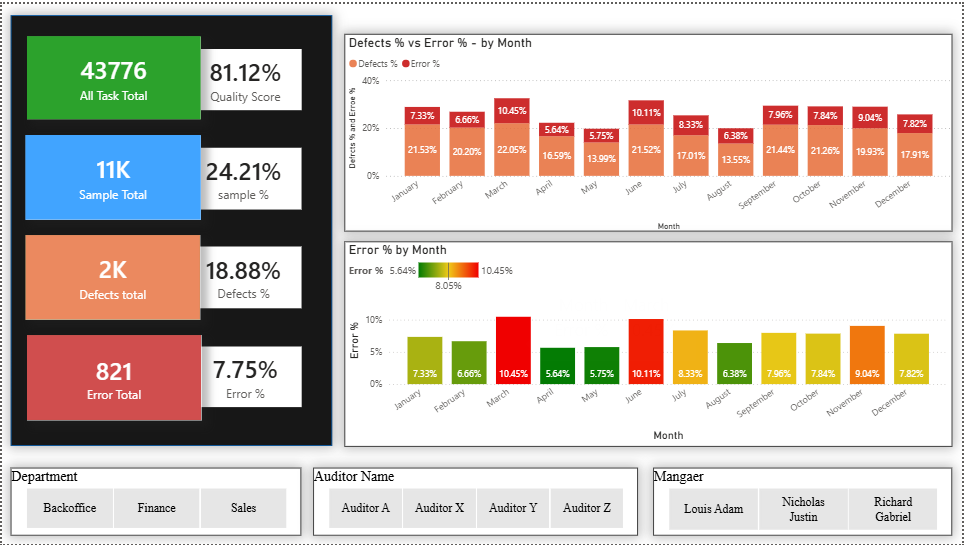

Layout of this report page (visuals, bound fields, positions):
{"tool":"powerbi","page":{"name":"Overview","canvas":[1280,720],"ordinal":0},"visuals":[{"type":"slicer","title":"Department","fields":{"Values":["Dim_Department.Department"]},"box":[11.4,618.6,387.1,90],"z":0},{"type":"slicer","title":"Auditor Name","fields":{"Values":["Dim_Auditor.Auditor Name"]},"box":[415.7,618.6,432.9,90],"z":1000},{"type":"slicer","title":"Mangaer","fields":{"Values":["Dim_Manager.Manager"]},"box":[868.6,618.6,398.6,90],"z":2000},{"type":"shape","box":[11.4,15.7,428.6,574.3],"z":3000},{"type":"cardVisual","fields":{"Data":["All_Measures.Error %"]},"box":[249.4,456.9,149.4,80.6],"z":4000},{"type":"cardVisual","fields":{"Data":["All_Measures.Quality Score"]},"box":[249.4,60,149.4,81.9],"z":5000},{"type":"cardVisual","fields":{"Data":["All_Measures.Error_Total"]},"box":[32.9,441,232.9,113.6],"z":6000},{"type":"cardVisual","fields":{"Data":["All_Measures.All Task Total"]},"box":[32.5,44,231.7,110],"z":7000},{"type":"cardVisual","fields":{"Data":["All_Measures.Defects %"]},"box":[244.4,323.1,154.4,82.5],"z":8000},{"type":"cardVisual","fields":{"Data":["All_Measures.Defects_total"]},"box":[32,308,232.9,112.9],"z":9000},{"type":"cardVisual","fields":{"Data":["All_Measures.sample %"]},"box":[244.4,191.1,154.4,82.2],"z":10000},{"type":"cardVisual","fields":{"Data":["All_Measures.Sample_Total"]},"box":[35.5,175.5,230,112.7],"z":11000},{"type":"columnChart","title":"Defects % vs Error % - by Month","fields":{"Y":["All_Measures.Defects %","All_Measures.Error %"],"Category":["Dim_Date.Month"]},"box":[456.7,40,810,263.3],"z":12000},{"type":"columnChart","fields":{"Y":["All_Measures.Error %"],"Category":["Dim_Date.Month"]},"box":[456.7,316.7,810,273.3],"z":13000}]}

Visuals, with their boxes in screenshot pixels (x1, y1, x2, y2), scaled from the page's 1280x720 canvas onto the 964x545 screenshot:
"Department" slicer: 9:468:300:536
"Auditor Name" slicer: 313:468:639:536
"Mangaer" slicer: 654:468:954:536
shape: 9:12:331:447
cardVisual - All_Measures.Error %: 188:346:300:407
cardVisual - All_Measures.Quality Score: 188:45:300:107
cardVisual - All_Measures.Error_Total: 25:334:200:420
cardVisual - All_Measures.All Task Total: 24:33:199:117
cardVisual - All_Measures.Defects %: 184:245:300:307
cardVisual - All_Measures.Defects_total: 24:233:200:319
cardVisual - All_Measures.sample %: 184:145:300:207
cardVisual - All_Measures.Sample_Total: 27:133:200:218
"Defects % vs Error % - by Month" columnChart: 344:30:954:230
columnChart - All_Measures.Error % x Dim_Date.Month: 344:240:954:447
